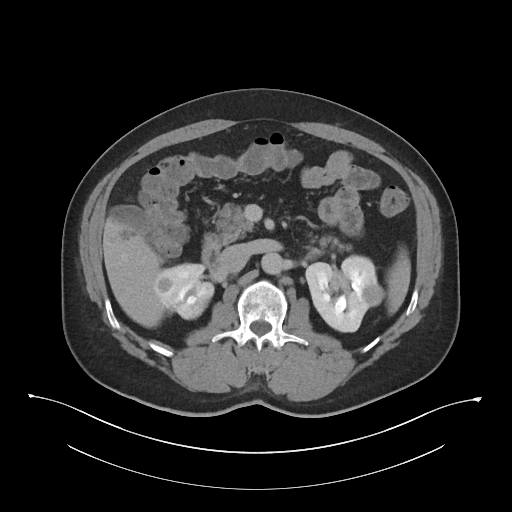Lesion: (359, 281, 391, 310)
